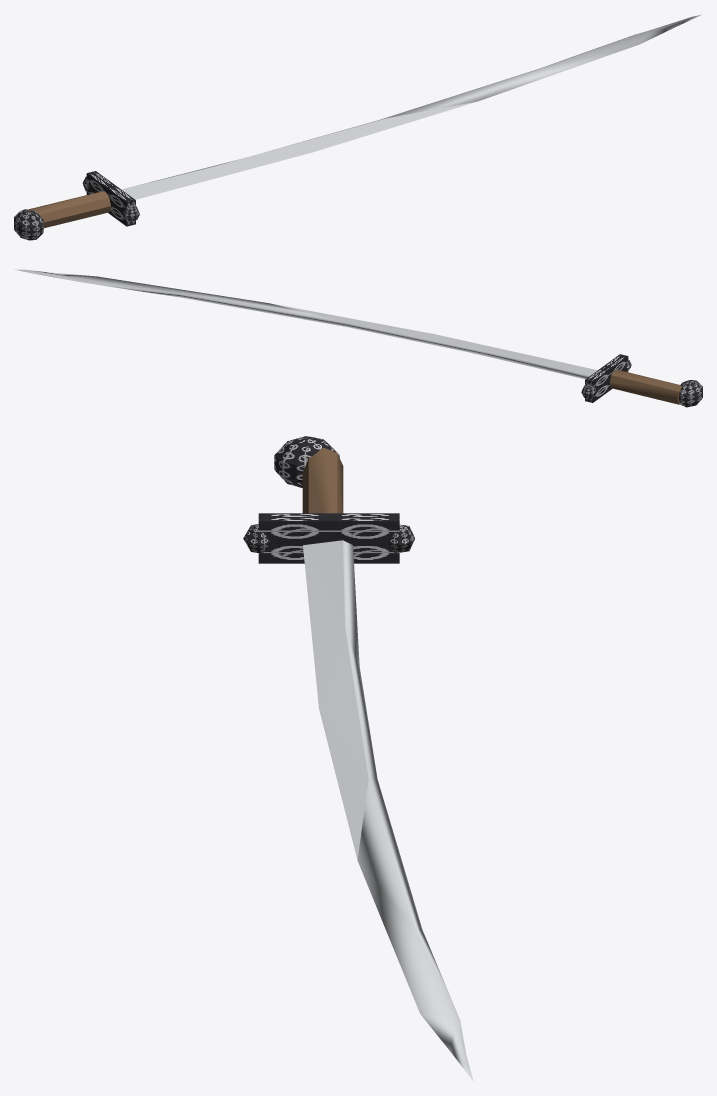
File: saber_lod1.glb
The picture shows the model from 3 angles, top to bottom: view 1: azimuth 30°, elevation 25°; view 2: azimuth 150°, elevation 25°; view 3: azimuth 270°, elevation 25°; orthographic projection. The views are drawn at different scales.
Parts seen in each view (by area): view 1: m; view 2: m; view 3: m.
Part boxes in pixels (box(x1,y1,x2,y2)): m: box(14, 14, 701, 240); m: box(14, 269, 702, 407); m: box(243, 436, 473, 1081).
Size of the model in its own units: 0.9518 by 0.034 by 0.1474.
Materials: 3 (1 with a texture image).
